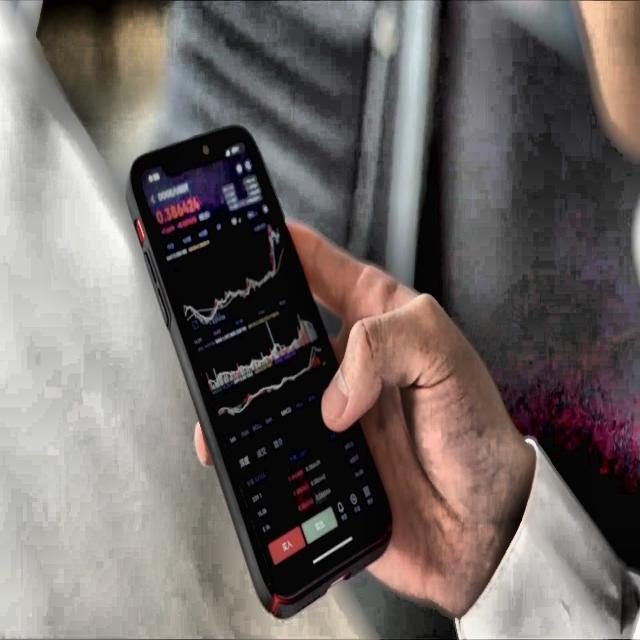Phone: (124, 121, 396, 619)
